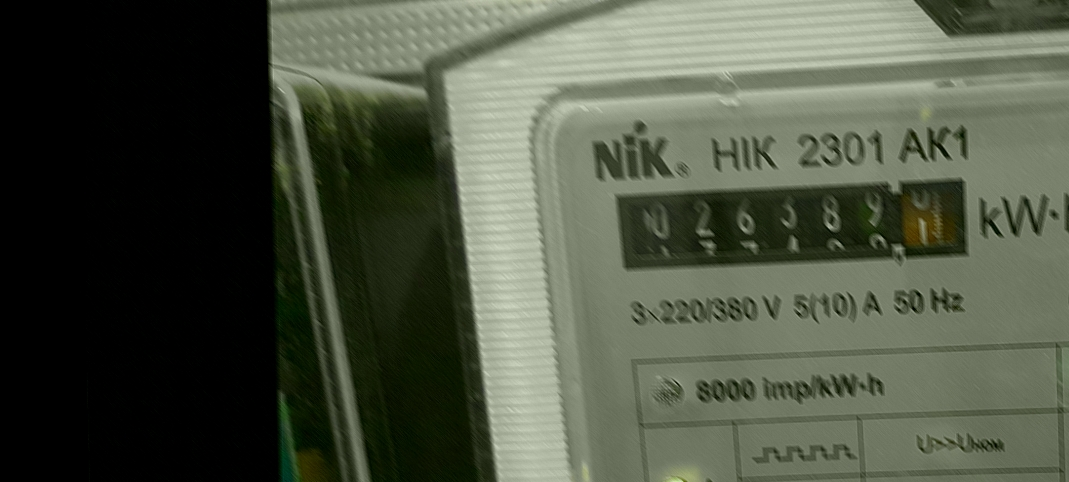0: (649, 199, 673, 239), (913, 188, 931, 209)
1: (918, 214, 931, 246)
2: (693, 197, 717, 236)
3: (780, 194, 798, 229)
6: (737, 195, 756, 234)
8: (822, 192, 844, 231)
9: (866, 190, 885, 225)
screen: (603, 166, 985, 281)
